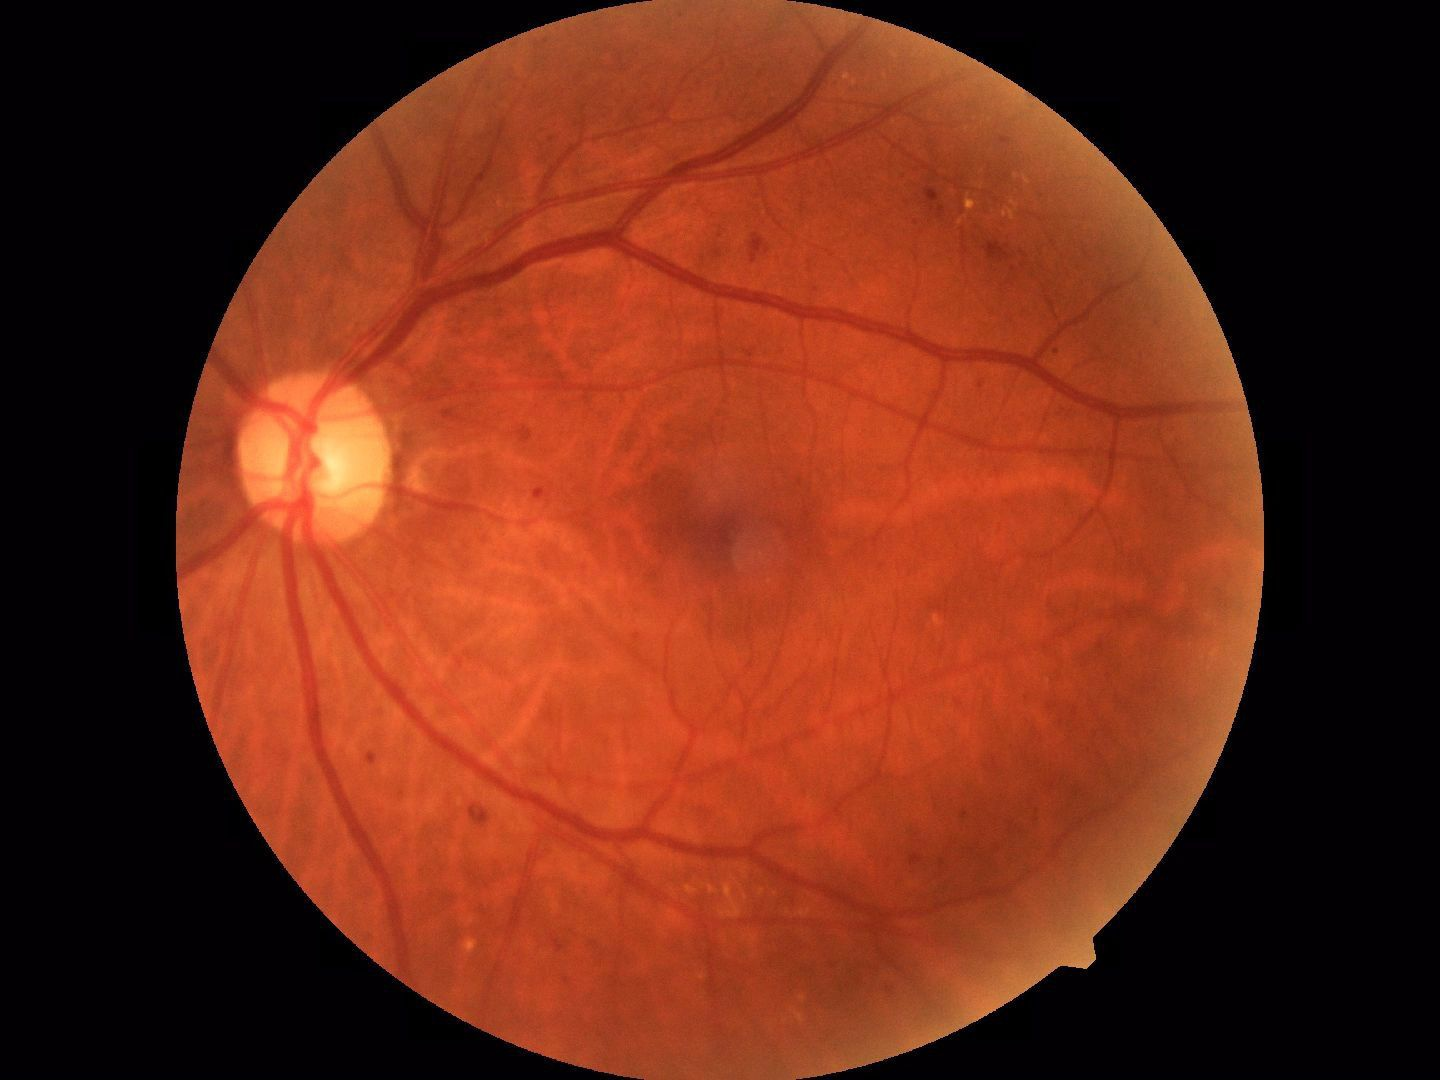Exudates: (960, 153, 1057, 248)
Hemorrhages: (641, 427, 799, 604)
Microaneurysms: (461, 786, 492, 833)
Optic-Disc: (227, 371, 408, 548)
Venules: (422, 176, 681, 297)
